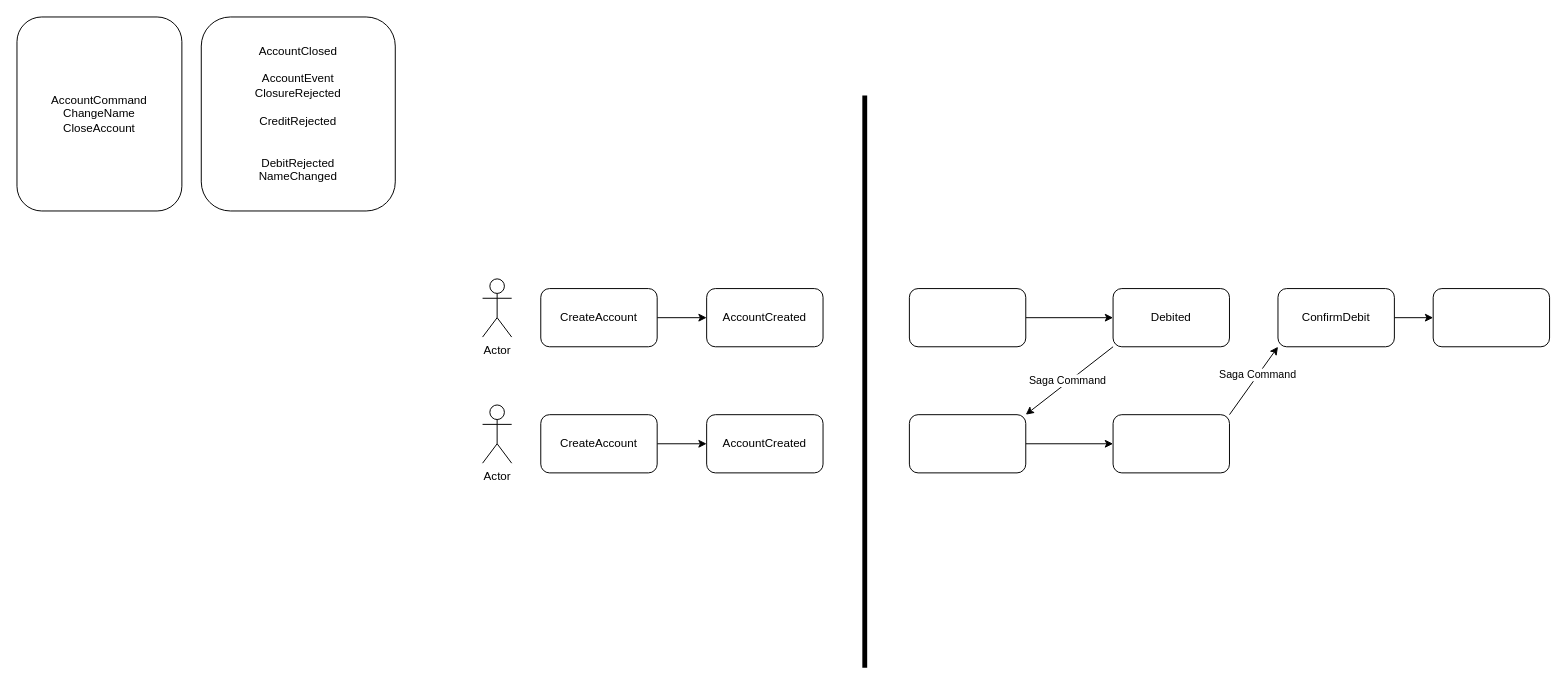
Image size: 1567x688. Some labels were removed from this diagram. Here are the shapes that lost their labels. From the top down, the centre of each, then its label:
At (967,317): "Debit".
At (1491,317): "DebitConfirmed".
At (967,443): "Credit".
At (1170,443): "Credited".
